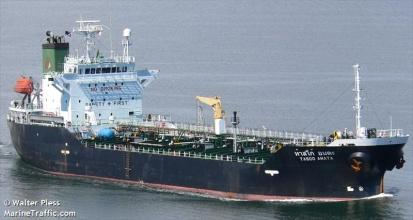Cargoship: (5, 12, 404, 200)
